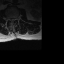CCS_normal: (11, 16, 13, 24)
LFS_stenosis: (15, 16, 17, 21)
LLS_normal: (13, 16, 15, 23)
RFS_stenosis: (7, 16, 9, 22)
RLS_normal: (9, 16, 11, 23)
